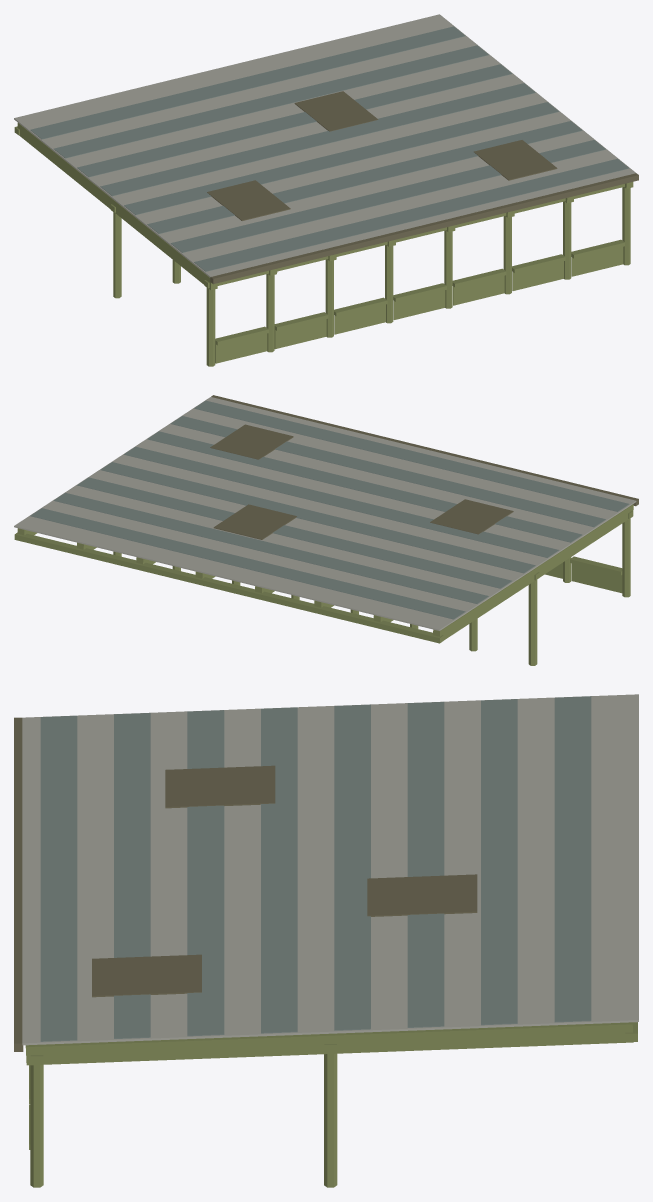
The model's file is SM_MarquesinaAdosada_v1_LOD1.fbx.
3 views of the same model, one above another, from view 1: azimuth 30°, elevation 25°; view 2: azimuth 150°, elevation 25°; view 3: azimuth 270°, elevation 25° (orthographic). The views are drawn at different scales.
Parts seen in each view (by area): view 1: SM_marquesina_adosada_v1_LOD1; view 2: SM_marquesina_adosada_v1_LOD1; view 3: SM_marquesina_adosada_v1_LOD1.
Boxes of the visible parts, bbox=[...] form: SM_marquesina_adosada_v1_LOD1: bbox=[14, 14, 638, 366]; SM_marquesina_adosada_v1_LOD1: bbox=[14, 395, 638, 665]; SM_marquesina_adosada_v1_LOD1: bbox=[14, 694, 638, 1187].
Bounding box in the file's own units: 21 × 5.08 × 17.03.
